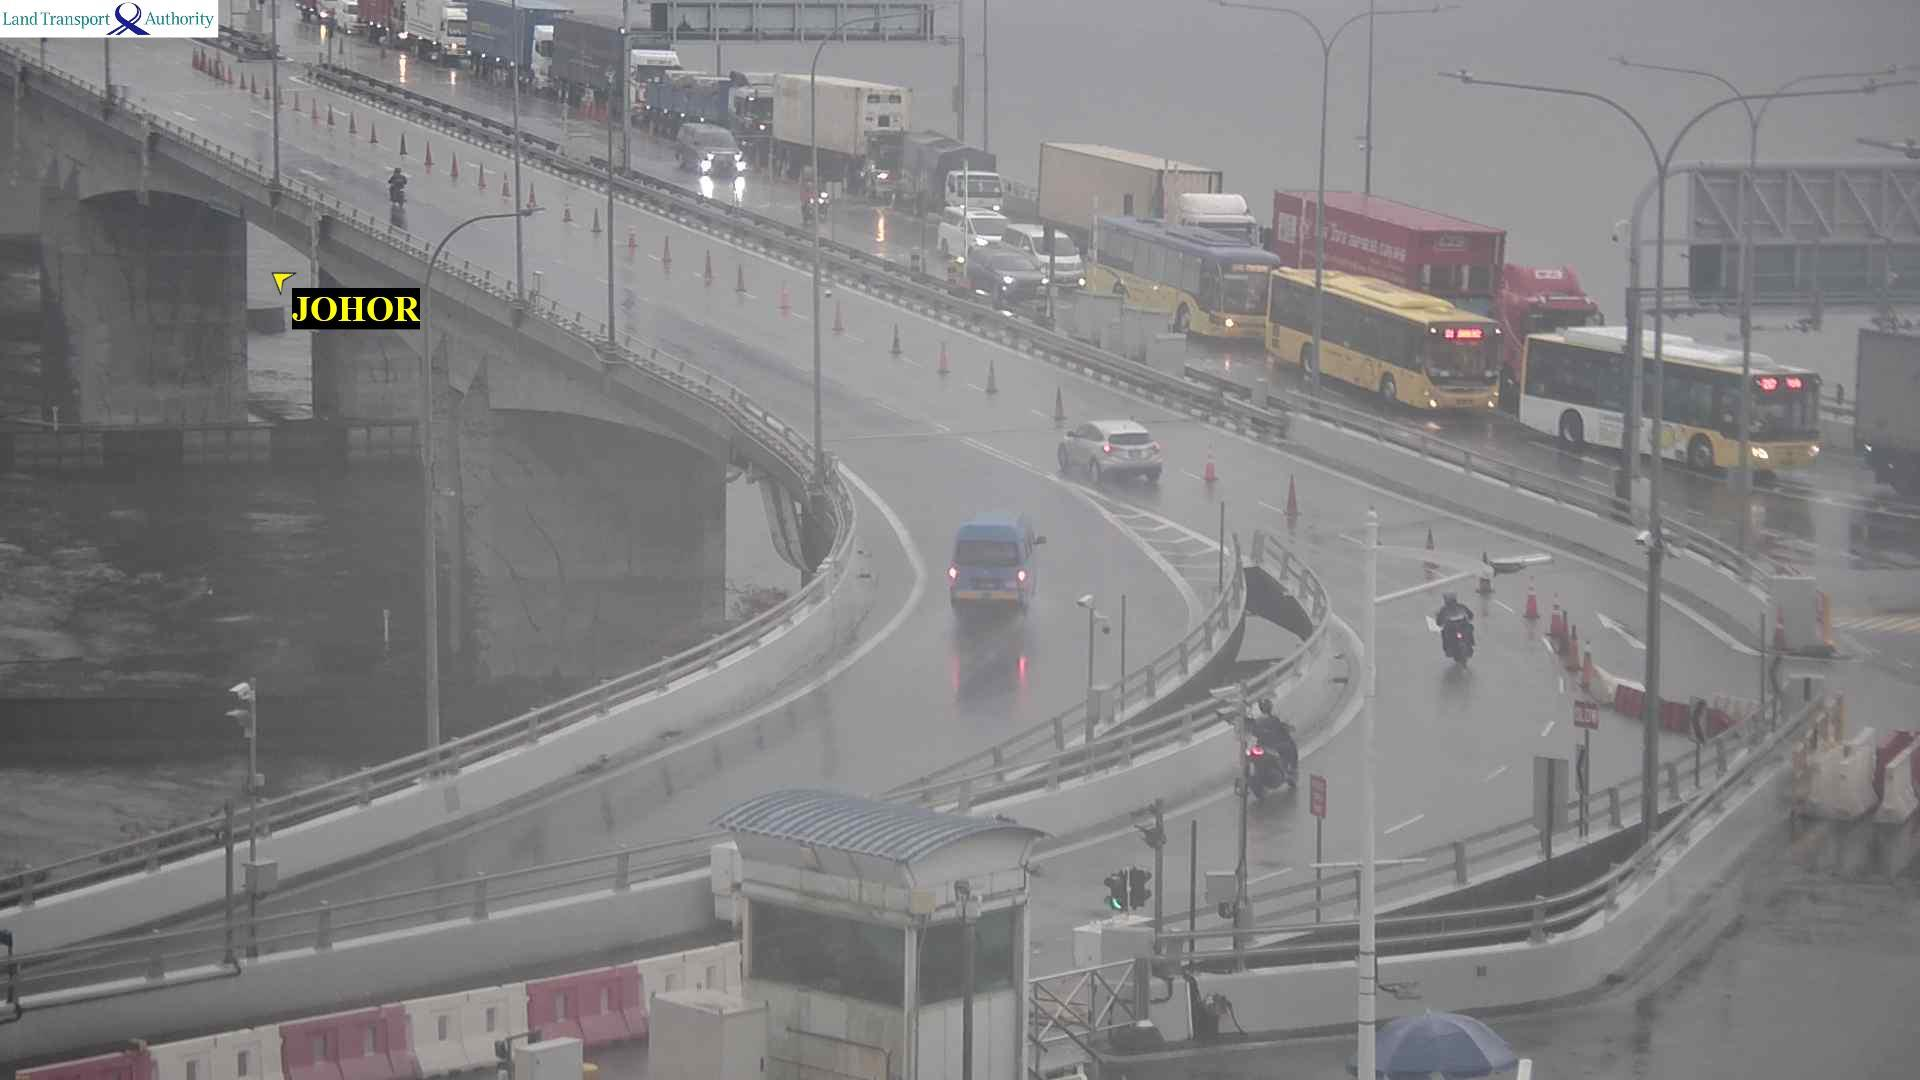vehicle-secondlink-johor: (1069, 421, 1171, 492), (945, 509, 1022, 589), (1247, 704, 1287, 791), (1439, 597, 1476, 671), (389, 164, 405, 207)
vehicle-secondlink-singapore: (1522, 331, 1815, 483), (1267, 268, 1498, 413), (425, 8, 709, 120), (1249, 187, 1519, 303), (741, 100, 1006, 196), (1015, 142, 1271, 223), (452, 0, 618, 104), (1085, 219, 1295, 281), (1859, 326, 1920, 495), (402, 0, 498, 54), (964, 241, 1038, 301), (1010, 224, 1083, 282), (944, 204, 1005, 256), (683, 125, 742, 173), (798, 167, 833, 223), (301, 0, 361, 18)
